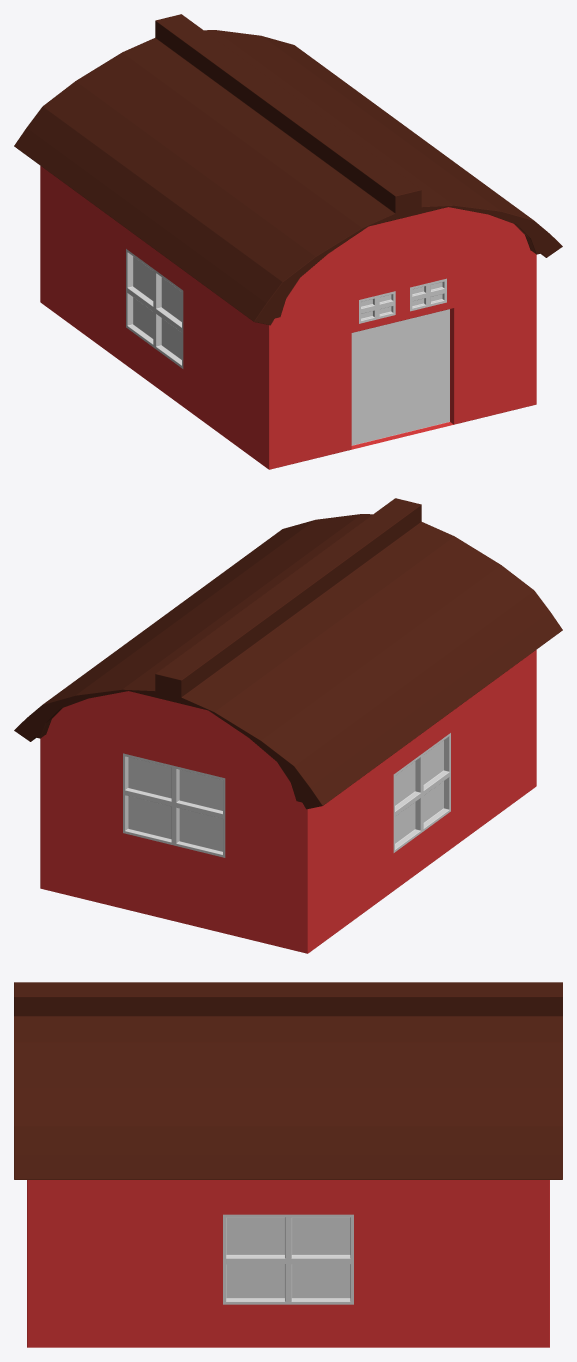
Rendered from barn.fbx.
The picture shows the model from 3 angles, top to bottom: view 1: azimuth 30°, elevation 25°; view 2: azimuth 150°, elevation 25°; view 3: azimuth 270°, elevation 25°; orthographic projection. The views are drawn at different scales.
Visible parts, largest first — view 1: Cube; view 2: Cube; view 3: Cube.
Part boxes in pixels (box(x1,y1,x2,y2)): Cube: box(14, 14, 562, 469); Cube: box(14, 498, 562, 953); Cube: box(14, 982, 562, 1347).
Bounding box in the file's own units: 624 × 479 × 840.
